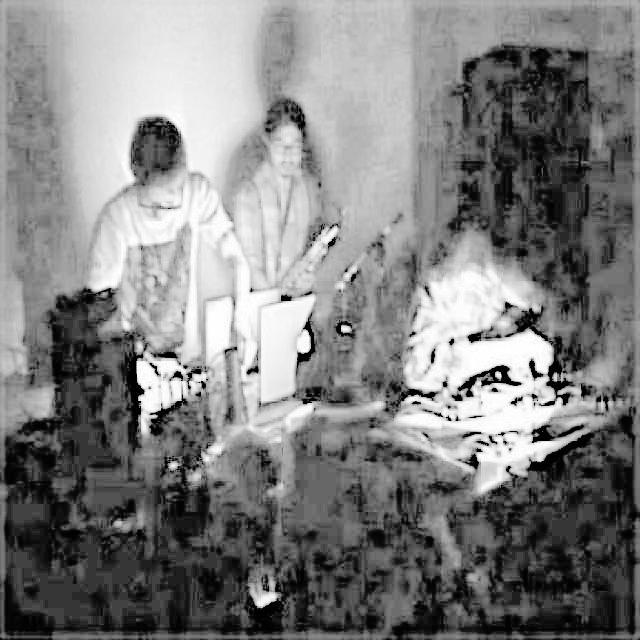Person: (83, 113, 263, 376), (234, 92, 340, 294)
